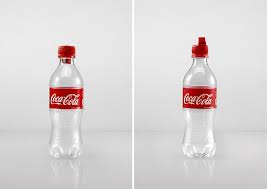HDPE Cap: (192, 37, 209, 53), (57, 46, 75, 57)
HDPE Ring: (192, 53, 208, 57)
PET Bottle: (182, 36, 217, 159), (48, 45, 84, 160)
PVC Label: (49, 87, 84, 109), (182, 87, 217, 109)
